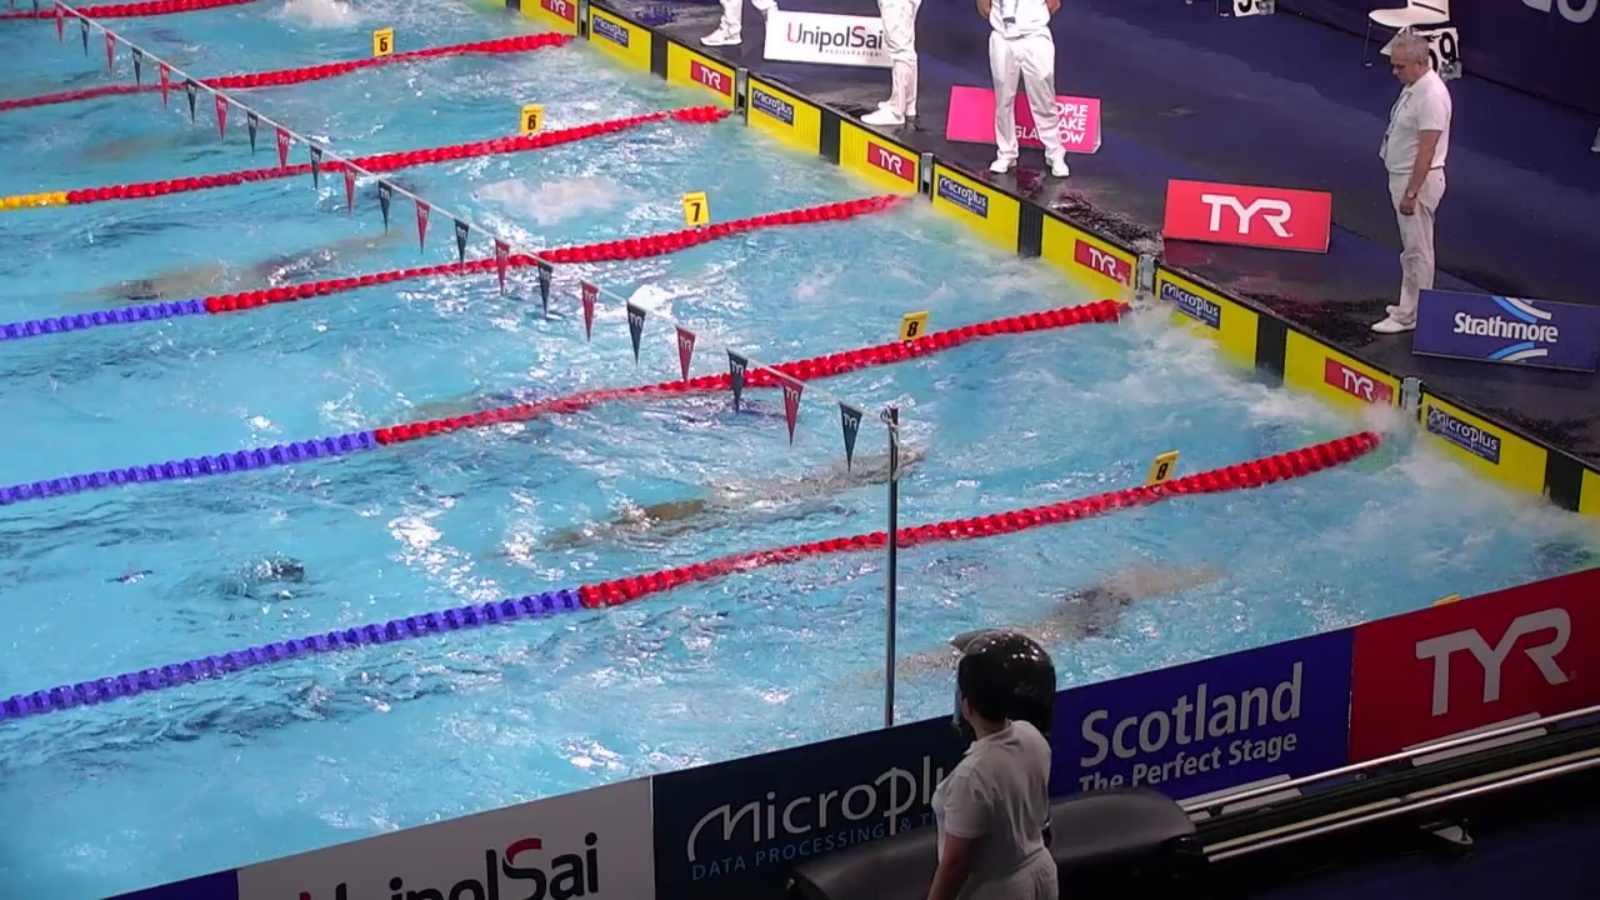swimmerw: (841, 559, 1246, 685), (502, 441, 930, 559), (337, 357, 609, 480), (91, 223, 407, 319), (59, 107, 275, 173)
